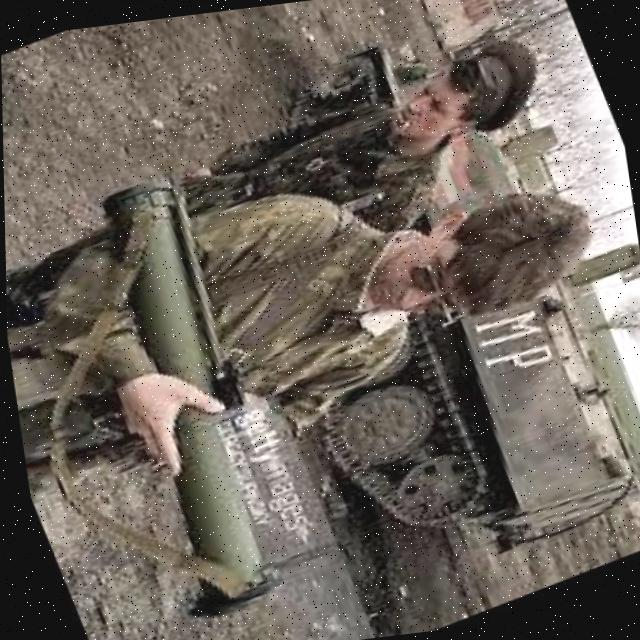rocket: (29, 156, 345, 636)
